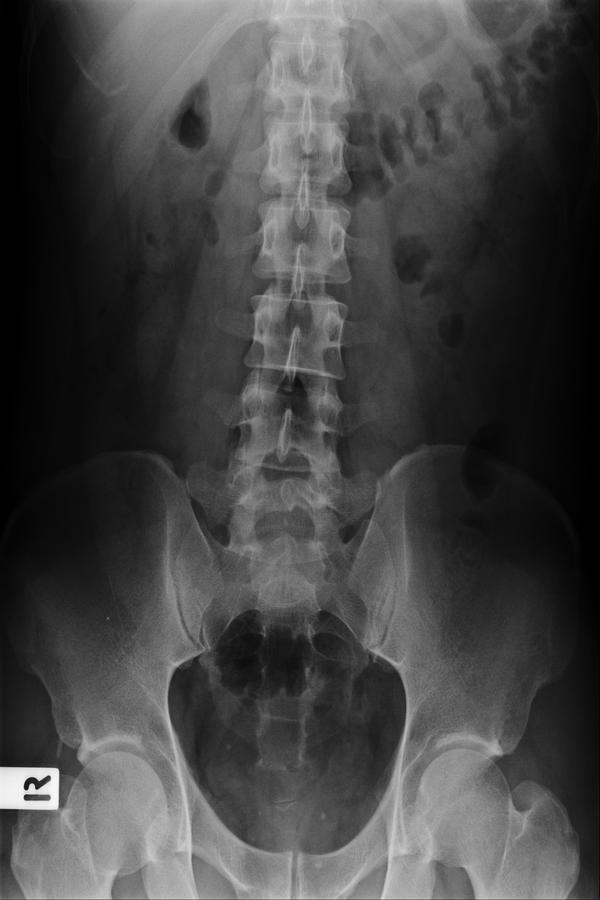lumbar scoliosis: (224, 143, 356, 568)
